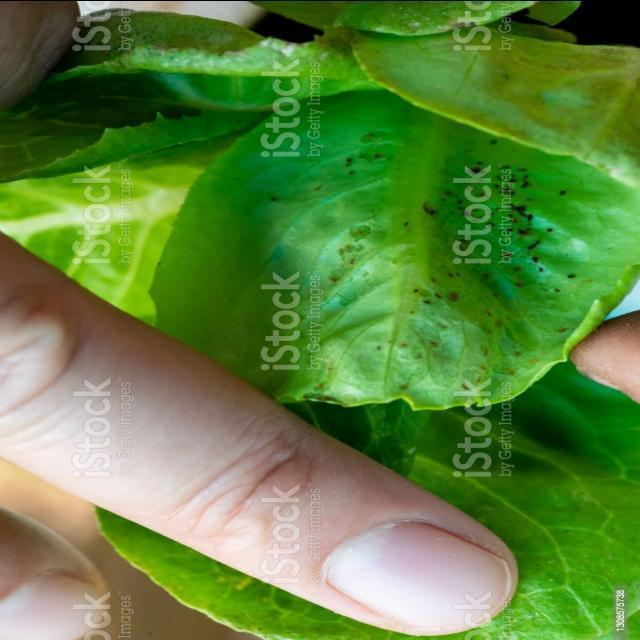Bacterial: (256, 147, 540, 380)
